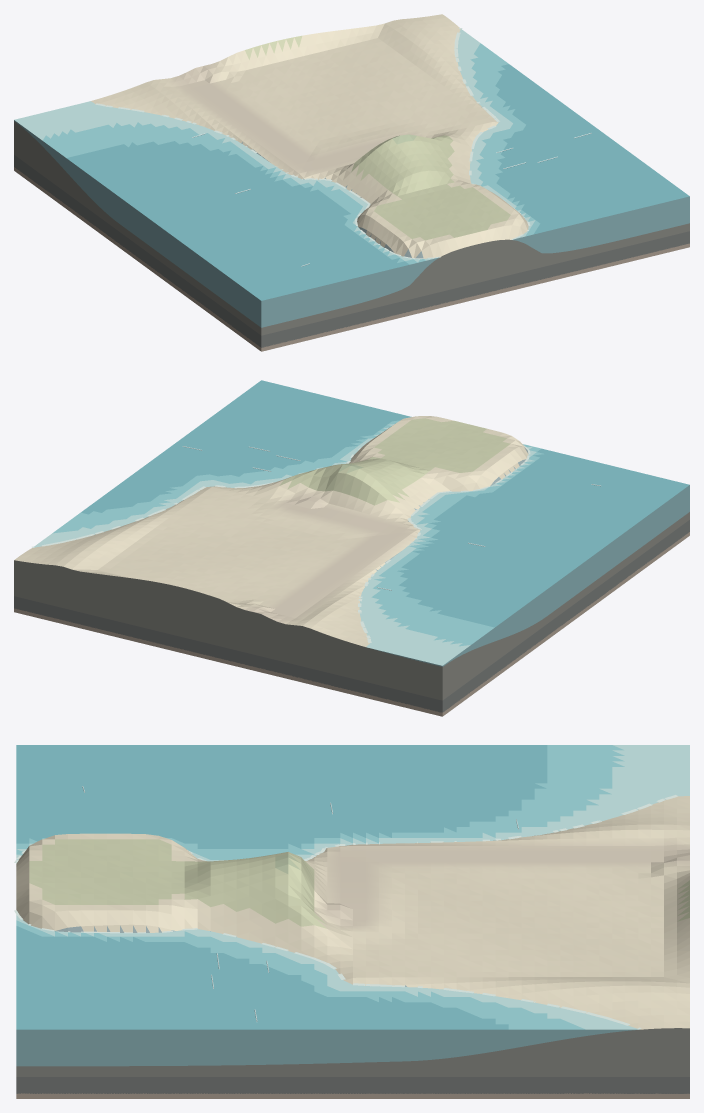
3 renders of one model, top to bottom at view 1: azimuth 30°, elevation 25°; view 2: azimuth 150°, elevation 25°; view 3: azimuth 270°, elevation 25°, orthographic. The views are drawn at different scales.
Visible parts, largest first — view 1: proc_water, proc_ground, proc_skirt, proc_water_side, proc_foam; view 2: proc_water, proc_ground, proc_skirt, proc_water_side, proc_foam; view 3: proc_water, proc_ground, proc_skirt, proc_water_side, proc_foam.
Part boxes in pixels (<box>): proc_water: <box>14,29,689,300</box>; proc_ground: <box>91,14,528,258</box>; proc_skirt: <box>14,121,689,351</box>; proc_water_side: <box>14,120,689,327</box>; proc_foam: <box>95,28,530,259</box>; proc_water: <box>34,380,689,665</box>; proc_ground: <box>14,416,528,646</box>; proc_skirt: <box>14,512,689,716</box>; proc_water_side: <box>369,485,689,666</box>; proc_foam: <box>32,445,530,643</box>; proc_water: <box>16,745,689,1029</box>; proc_ground: <box>16,796,689,1029</box>; proc_skirt: <box>16,1028,689,1098</box>; proc_water_side: <box>16,1029,638,1066</box>; proc_foam: <box>14,795,677,1029</box>.
Bounding box in the file's own units: 8.02 × 1.51 × 8.03.
